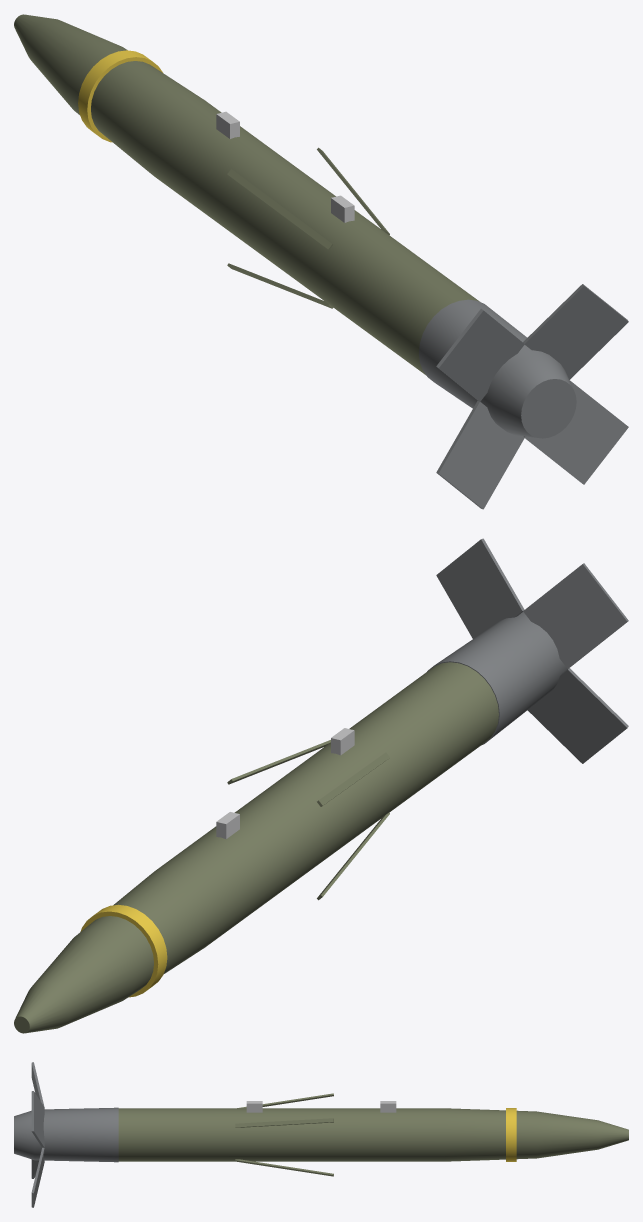
Rendered from penetrator.glb.
The picture shows the model from 3 angles, top to bottom: view 1: azimuth 30°, elevation 25°; view 2: azimuth 150°, elevation 25°; view 3: azimuth 270°, elevation 25°; orthographic projection. The views are drawn at different scales.
Parts seen in each view (by area): view 1: Bomb; view 2: Bomb; view 3: Bomb.
Boxes of the visible parts, x1,y1,x2,y2 form: Bomb: (14, 14, 628, 509); Bomb: (14, 538, 628, 1033); Bomb: (14, 1062, 628, 1207).
Size of the model in its own units: 0.9644 by 0.9644 by 4.6.
